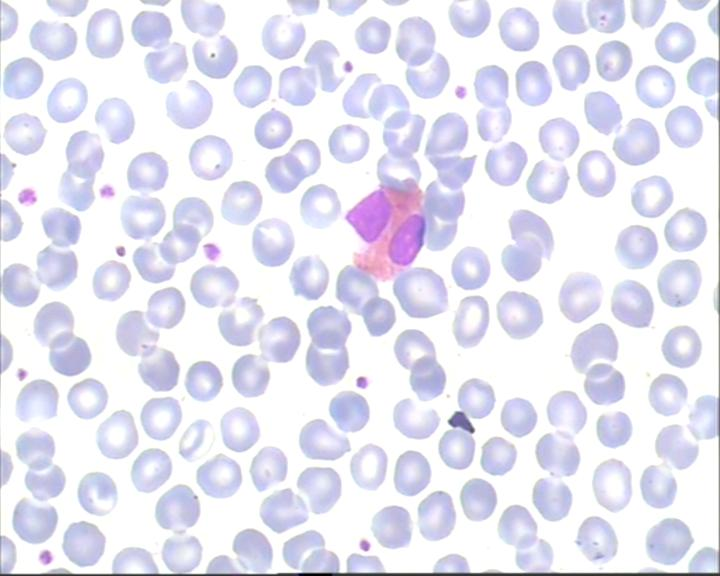eosi: (343, 183, 432, 283)
